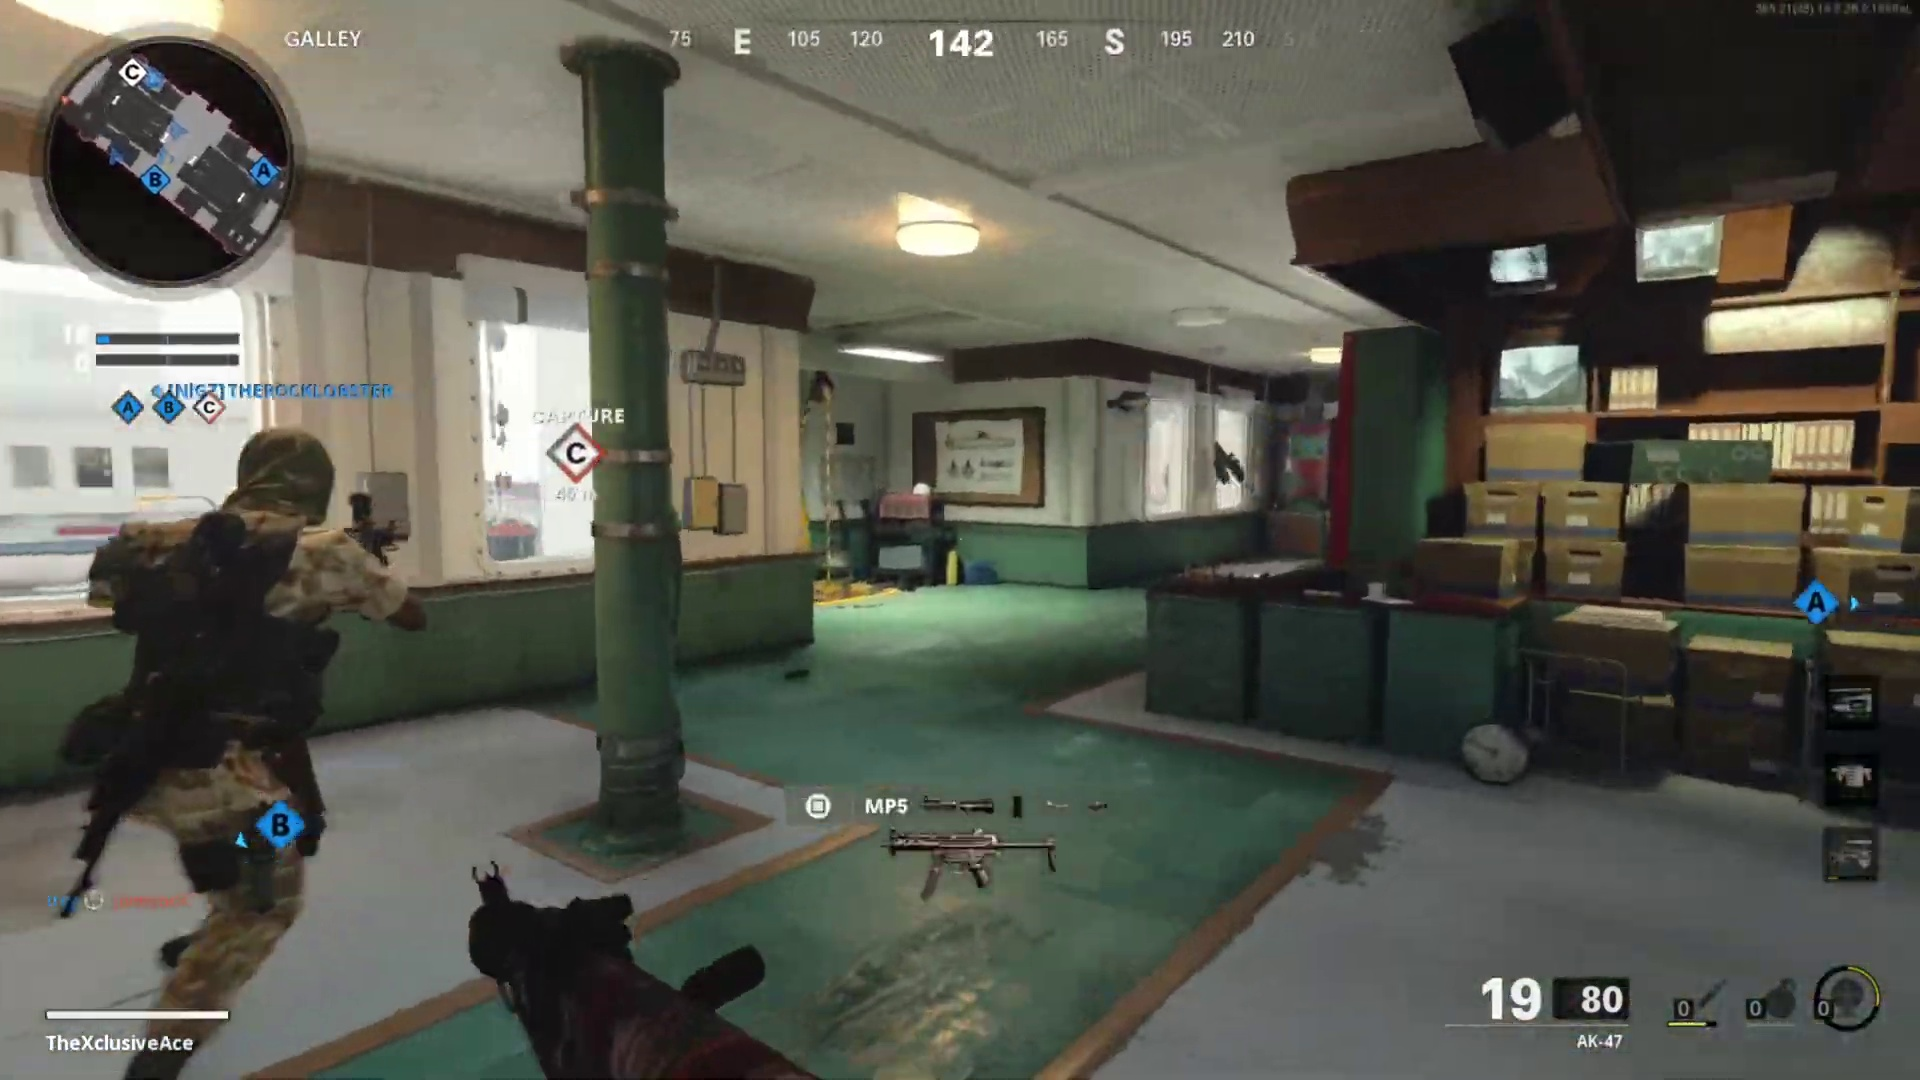head: (230, 417, 346, 539)
person: (47, 420, 410, 1007)
